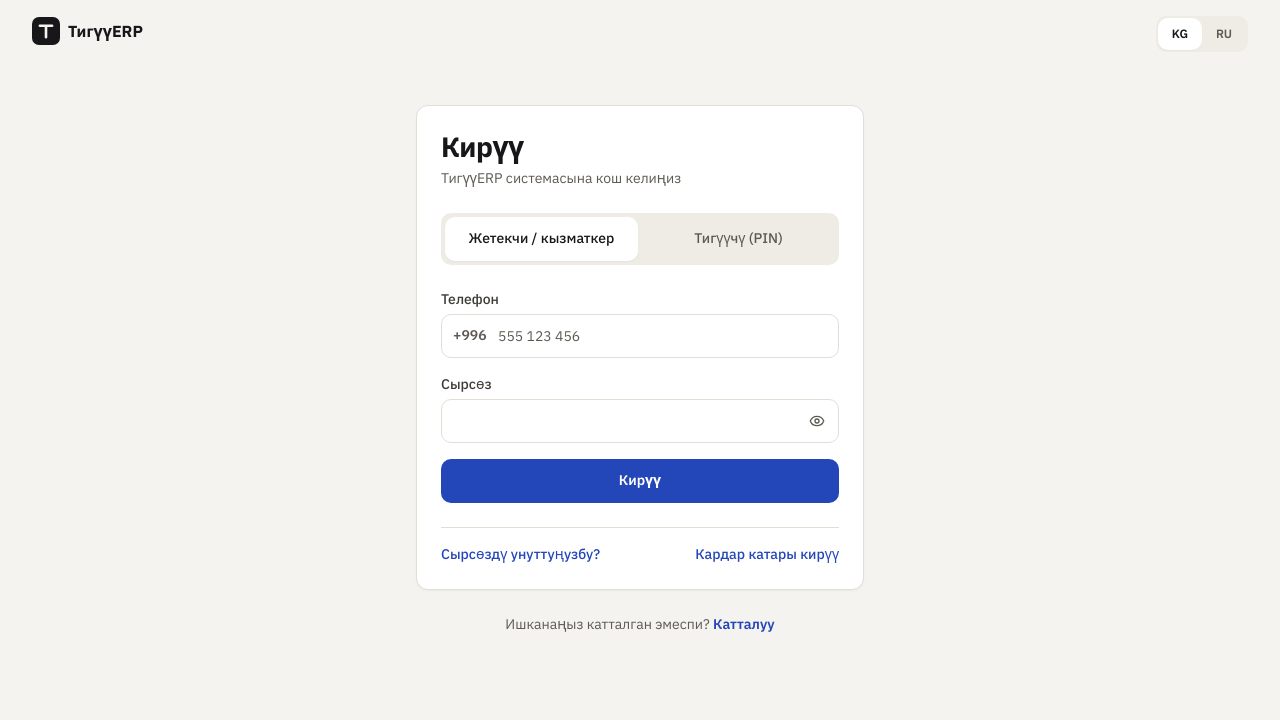
login (1.1) › shows a translated error for a wrong password
Type "555000001" into the field labelled "Телефон" at (640, 336), box [441,314,839,358]
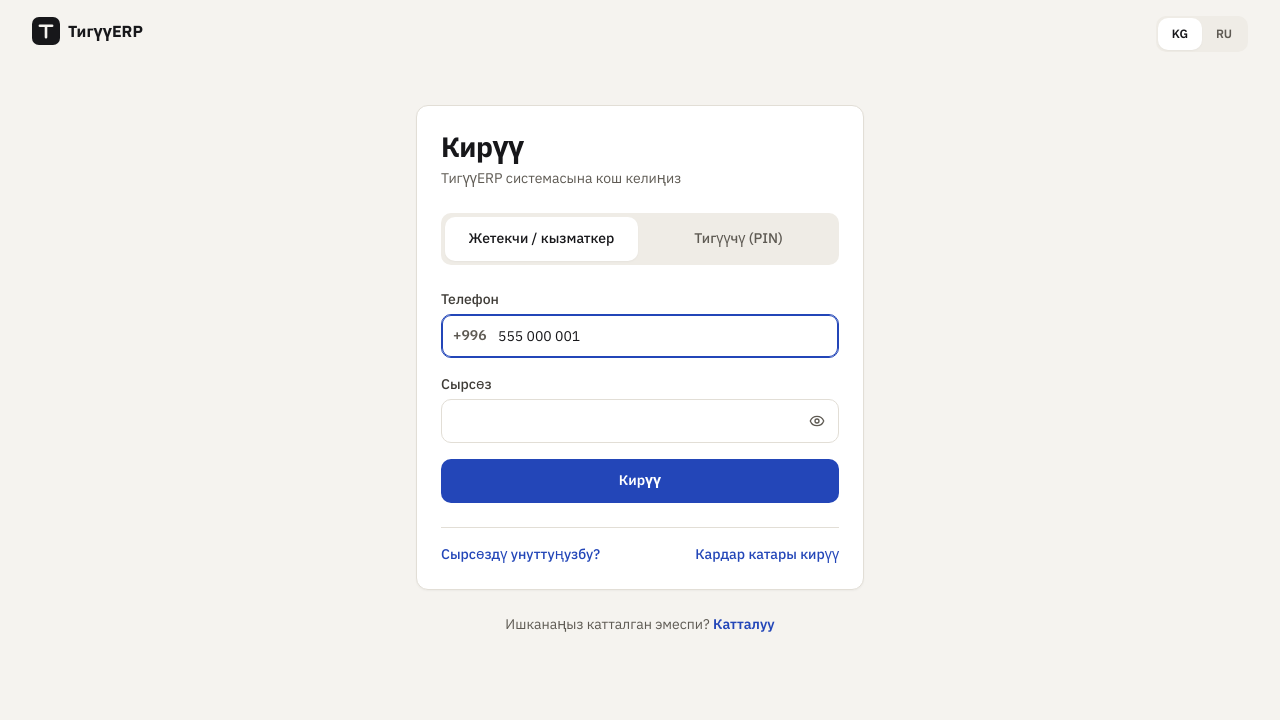
Type "wrong-password" into the password field labelled "Сырсөз" at (640, 421), box [441,399,839,443]
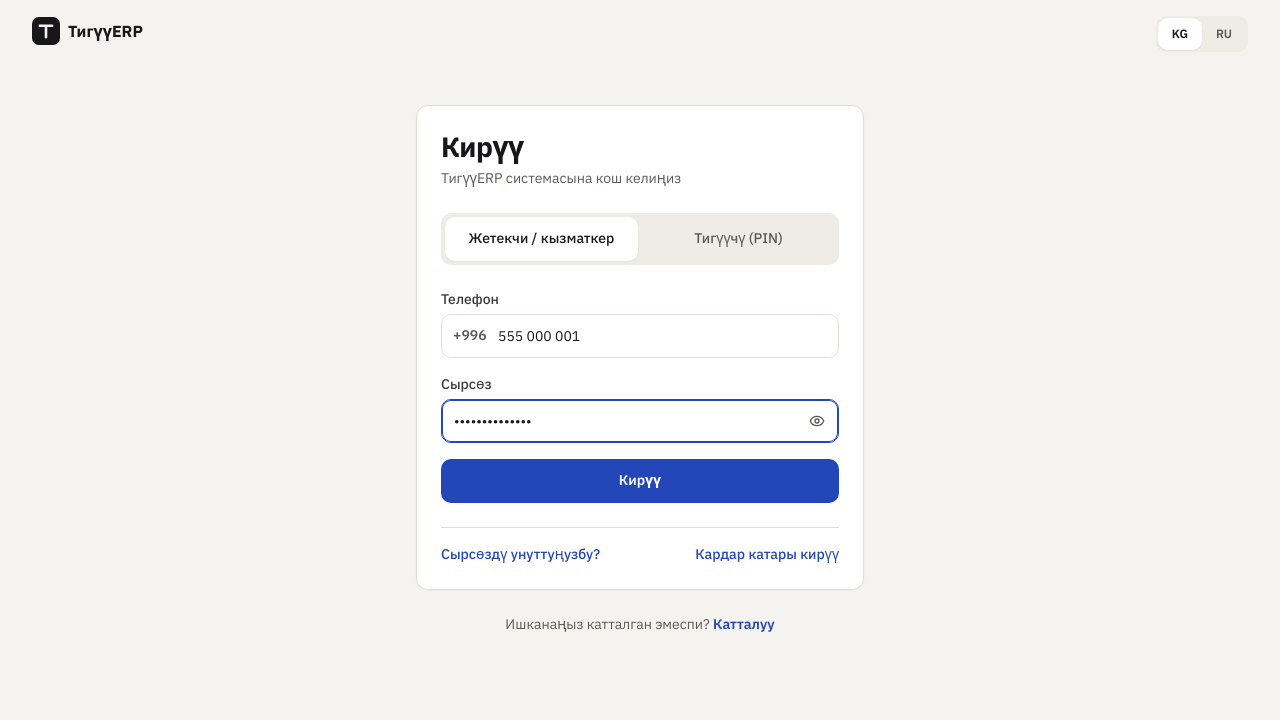
Click the button "Кирүү" at (640, 481), box [441,459,839,503]
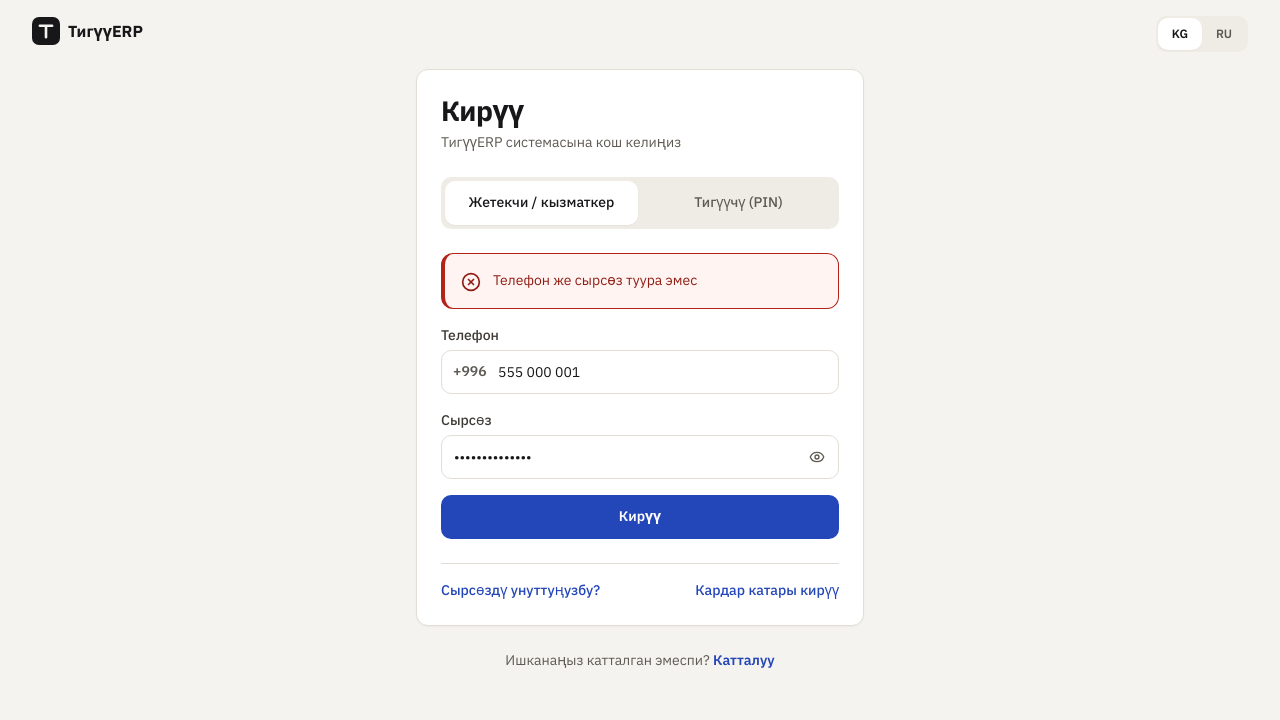
expect the text "Телефон же сырсөз туура эмес" is shown: met, box [493,271,697,289]
